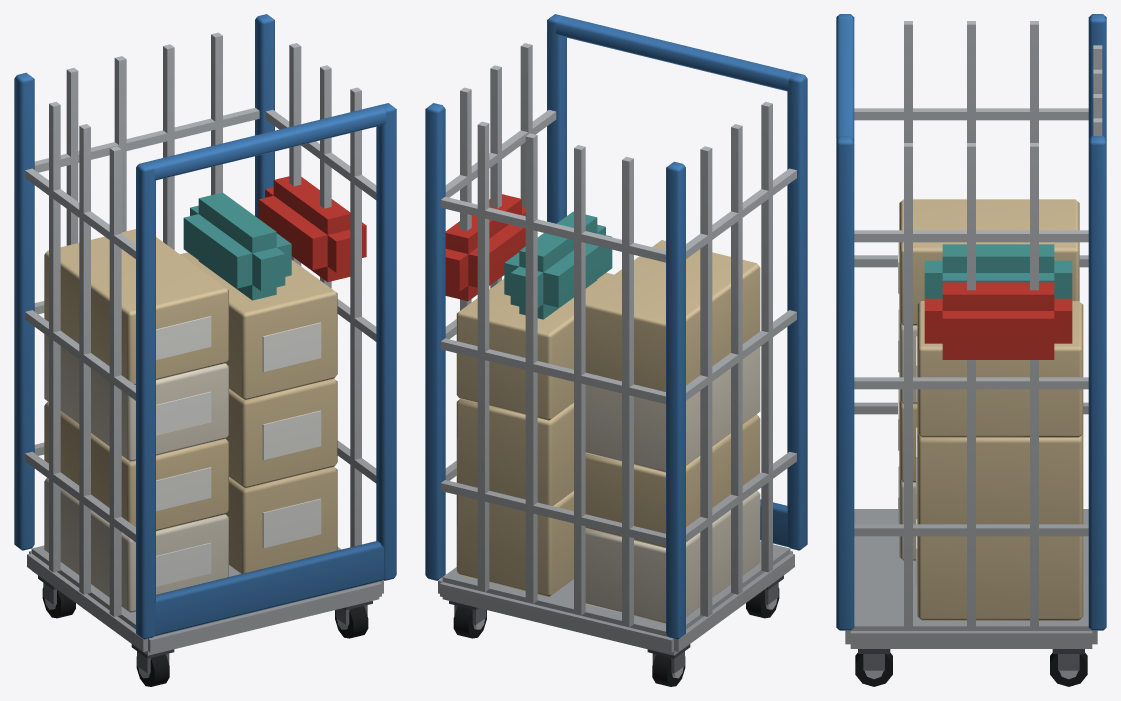
The model's file is RollCage_Loaded_01.glb.
3 views of the same model, side by side, from view 1: azimuth 30°, elevation 25°; view 2: azimuth 150°, elevation 25°; view 3: azimuth 270°, elevation 25° (orthographic). The views are drawn at different scales.
Visible parts, largest first — view 1: SM_RollCage_Loaded_01; view 2: SM_RollCage_Loaded_01; view 3: SM_RollCage_Loaded_01.
Boxes of the visible parts, bbox=[...] form: SM_RollCage_Loaded_01: bbox=[14, 14, 396, 686]; SM_RollCage_Loaded_01: bbox=[425, 14, 807, 686]; SM_RollCage_Loaded_01: bbox=[836, 14, 1106, 686].
Bounding box in the file's own units: 0.915 × 1.7 × 0.75.
Materials: 1 (1 with a texture image).
